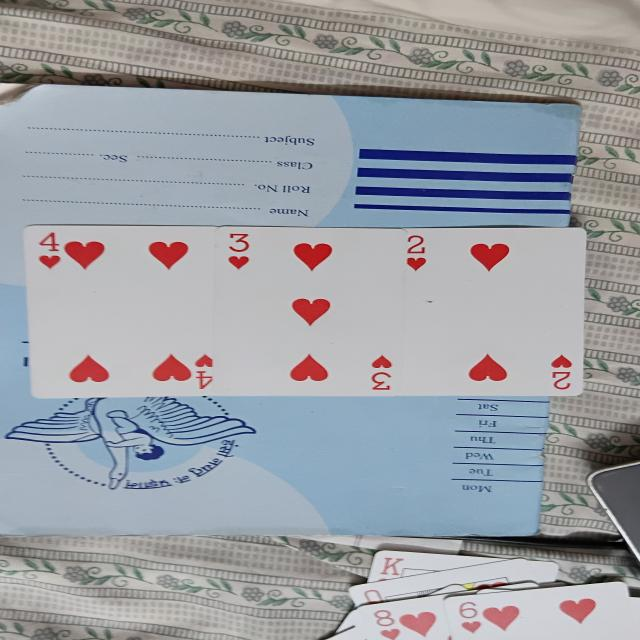2H: (402, 235, 582, 397)
3H: (232, 227, 402, 397)
4H: (22, 226, 229, 394)
